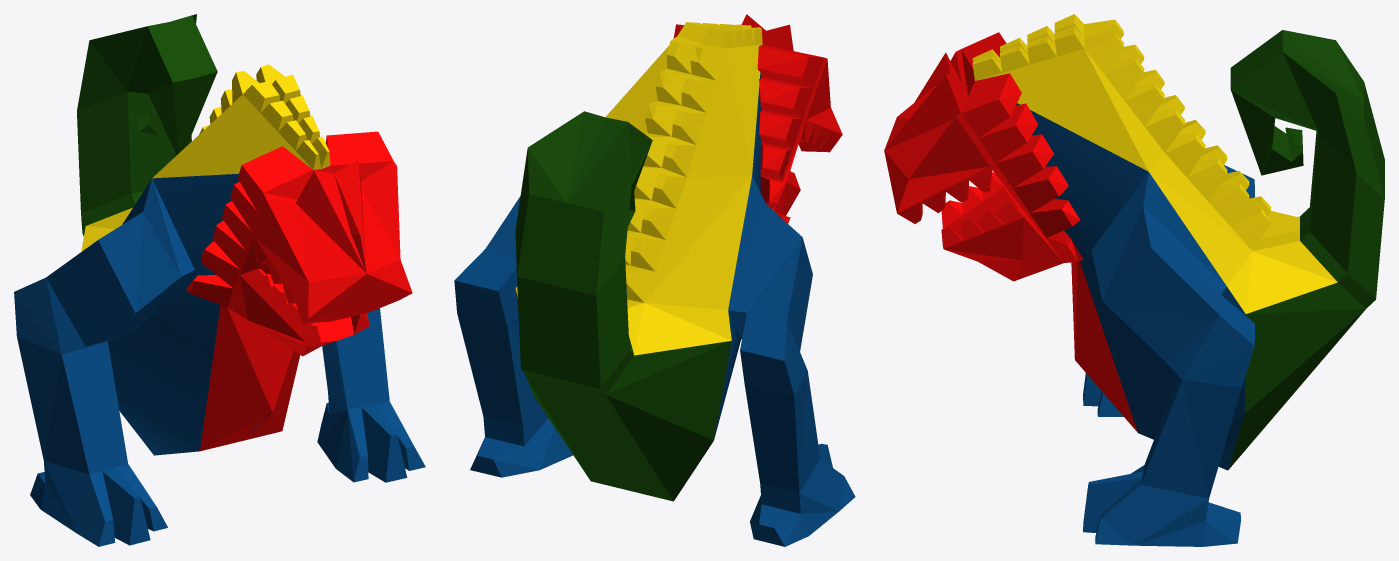
File: Temple_Monster(coloured).fbx
The picture shows the model from 3 angles, left to right: view 1: azimuth 30°, elevation 25°; view 2: azimuth 150°, elevation 25°; view 3: azimuth 270°, elevation 25°; orthographic projection. The views are drawn at different scales.
Visible parts, largest first — view 1: Box001; view 2: Box001; view 3: Box001.
Part boxes in pixels (x1,y1,x2,y2): Box001: (14, 14, 425, 546); Box001: (454, 14, 855, 546); Box001: (884, 14, 1384, 546).
Size of the model in its own units: 5.67 by 6.81 by 7.03.
